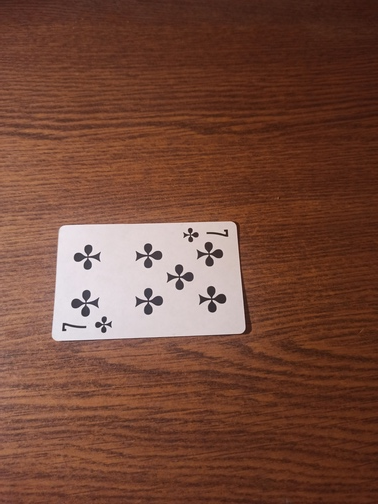sevenclubs: (52, 220, 250, 341)
